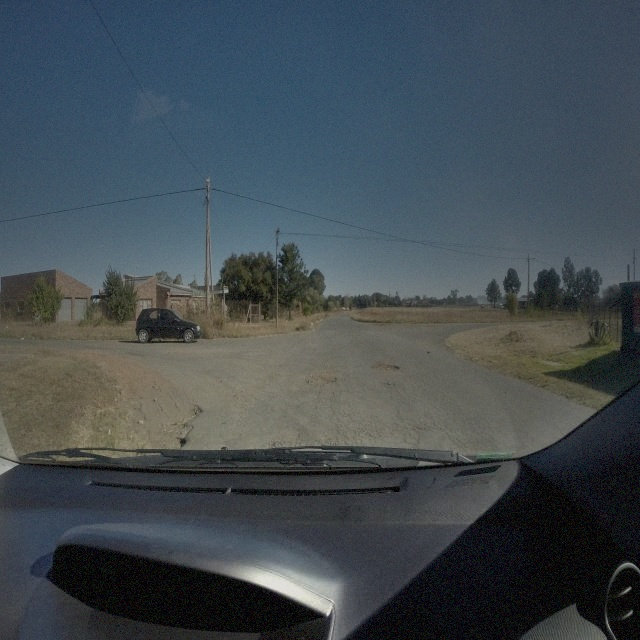pothole: (305, 374, 337, 386), (371, 361, 400, 374)
